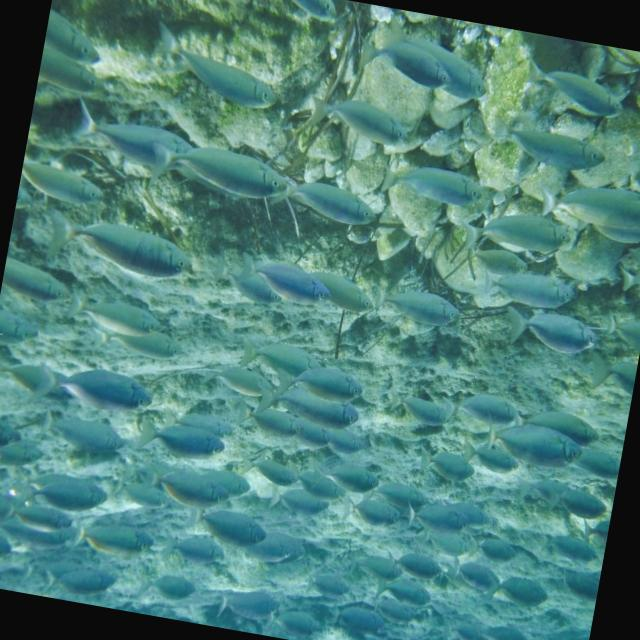Sokar Baligi: (130, 11, 288, 126), (32, 200, 200, 296), (479, 102, 615, 186), (300, 80, 420, 158)
